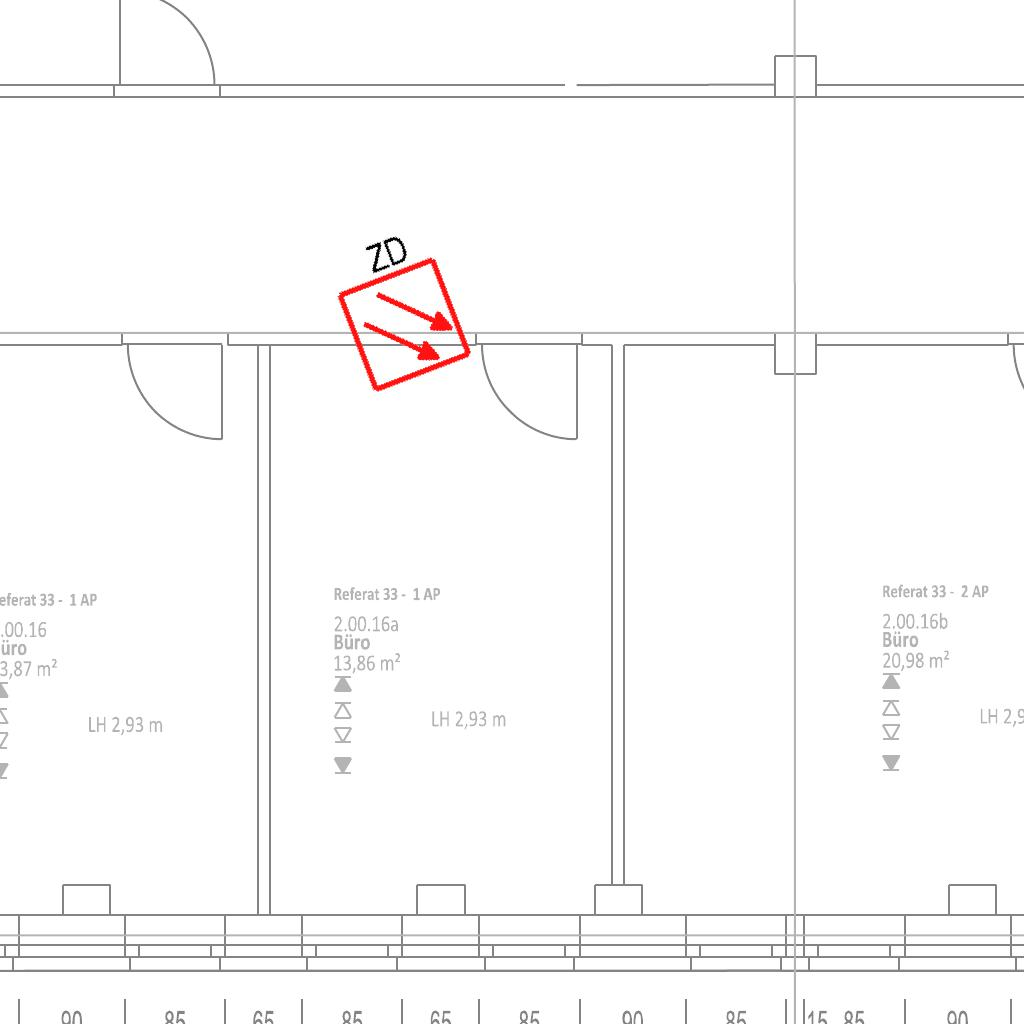ZD_Melder_in_Zwischendecke_mit_Revisionsoeffnung_mind_40_x_40_cm: (316, 217, 476, 398)
